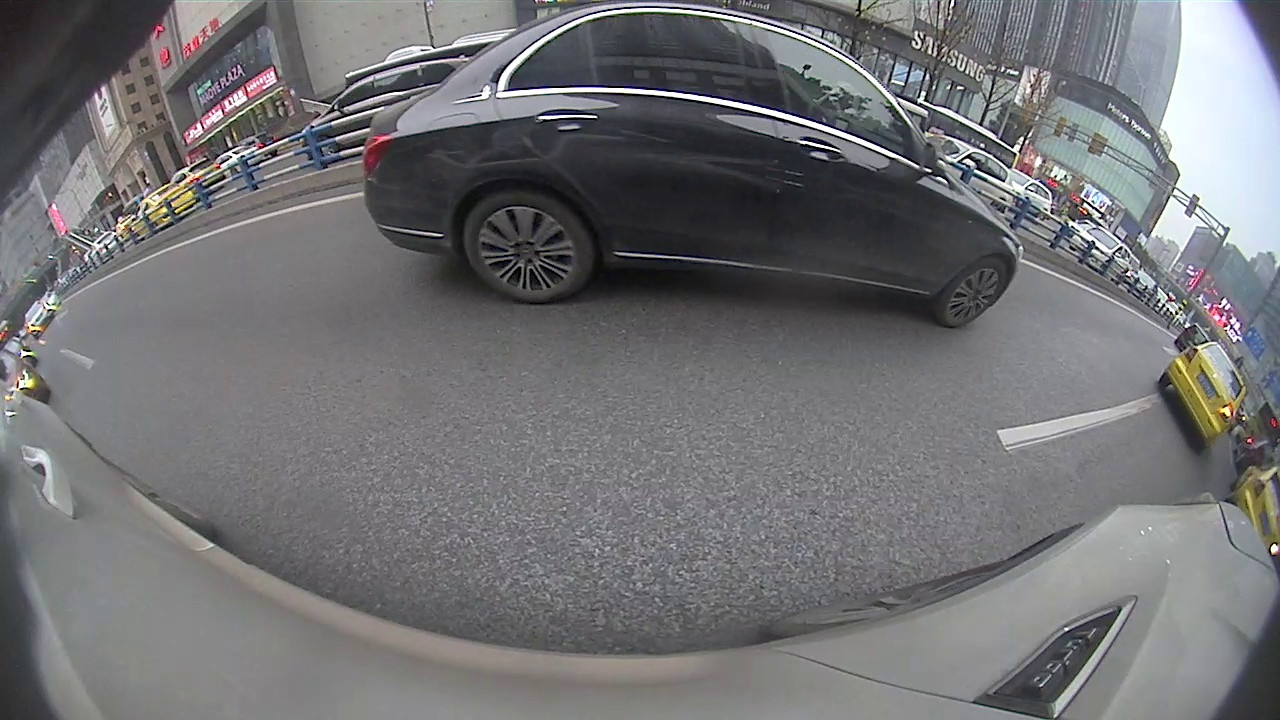car: (360, 1, 1026, 332), (299, 52, 474, 162), (1155, 338, 1251, 455), (922, 130, 1018, 216)
front: (940, 258, 1011, 331)
rear: (461, 191, 593, 306)
